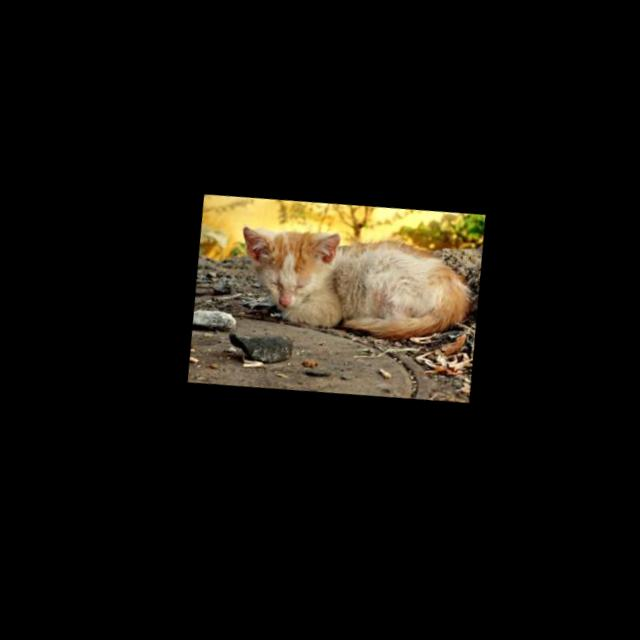animals: (221, 216, 478, 366)
